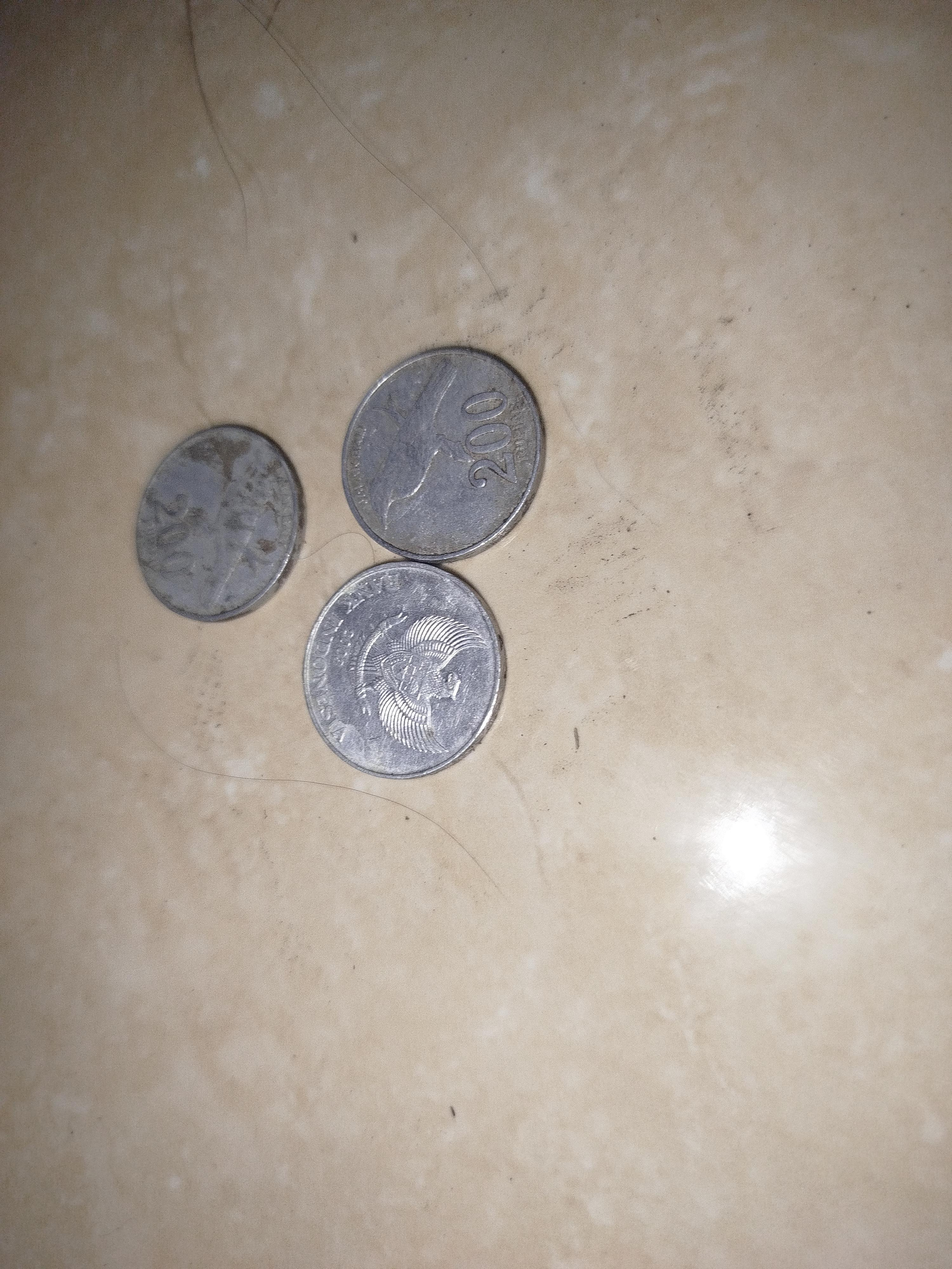coin_200_e2003: (108, 371, 321, 620), (311, 563, 513, 799), (339, 345, 542, 564)
